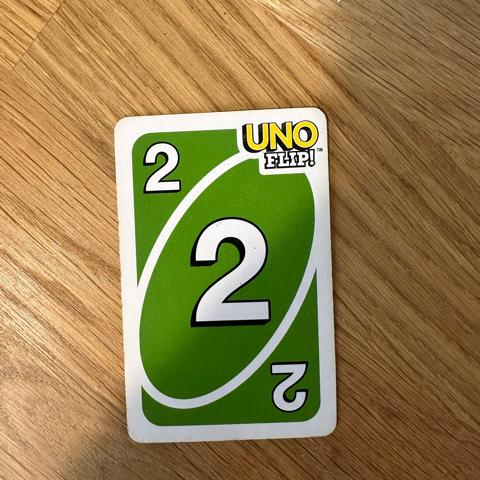lgreen-2: (129, 127, 198, 206)
